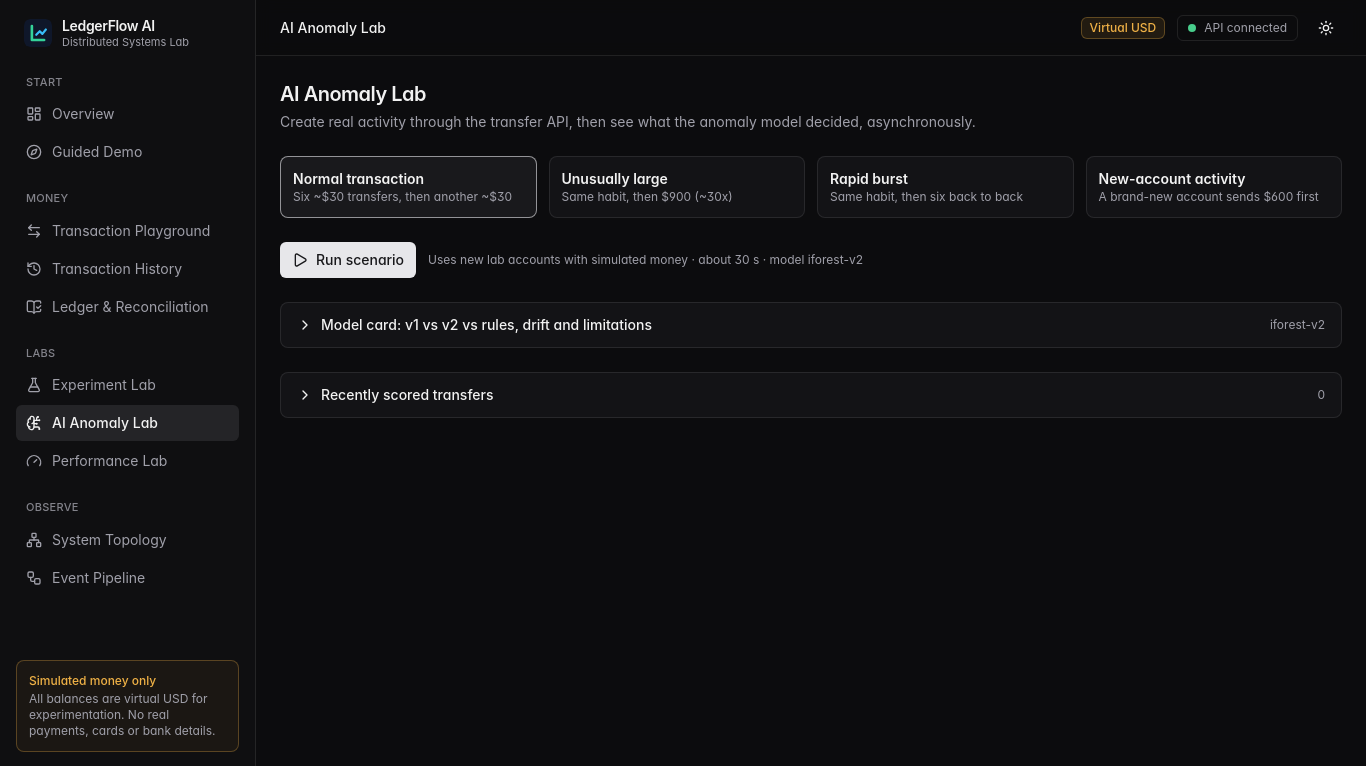
Scenario: AI Anomaly Lab › keeps the feature table and model card collapsed, with honest evaluation numbers
Click the button "Run scenario" at x=348, y=260, box [280,242,416,278]
(page scrolled)
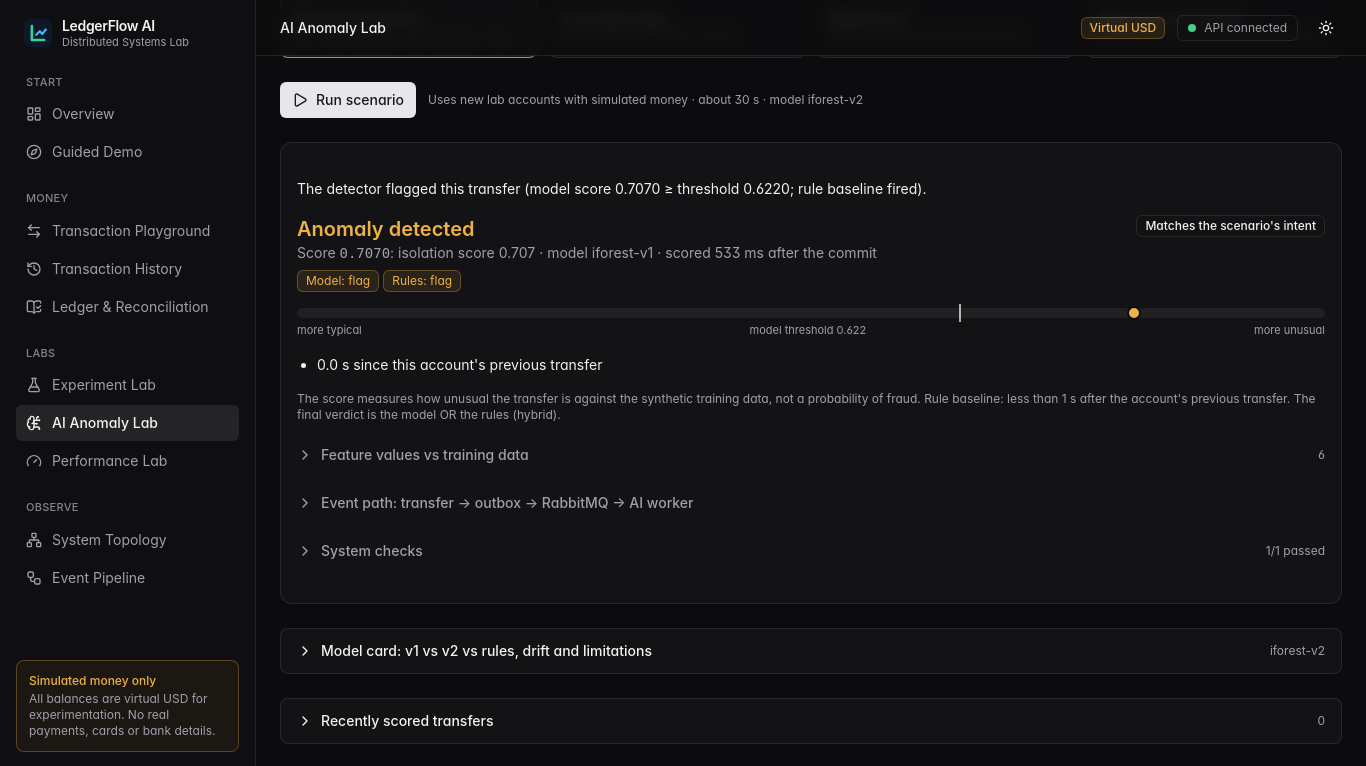
expect the element with test id "ai-prediction" is shown: met, box [297,215,1325,518]
Click the button "Model card" at x=486, y=650, box [281,628,1341,672]
(page scrolled)
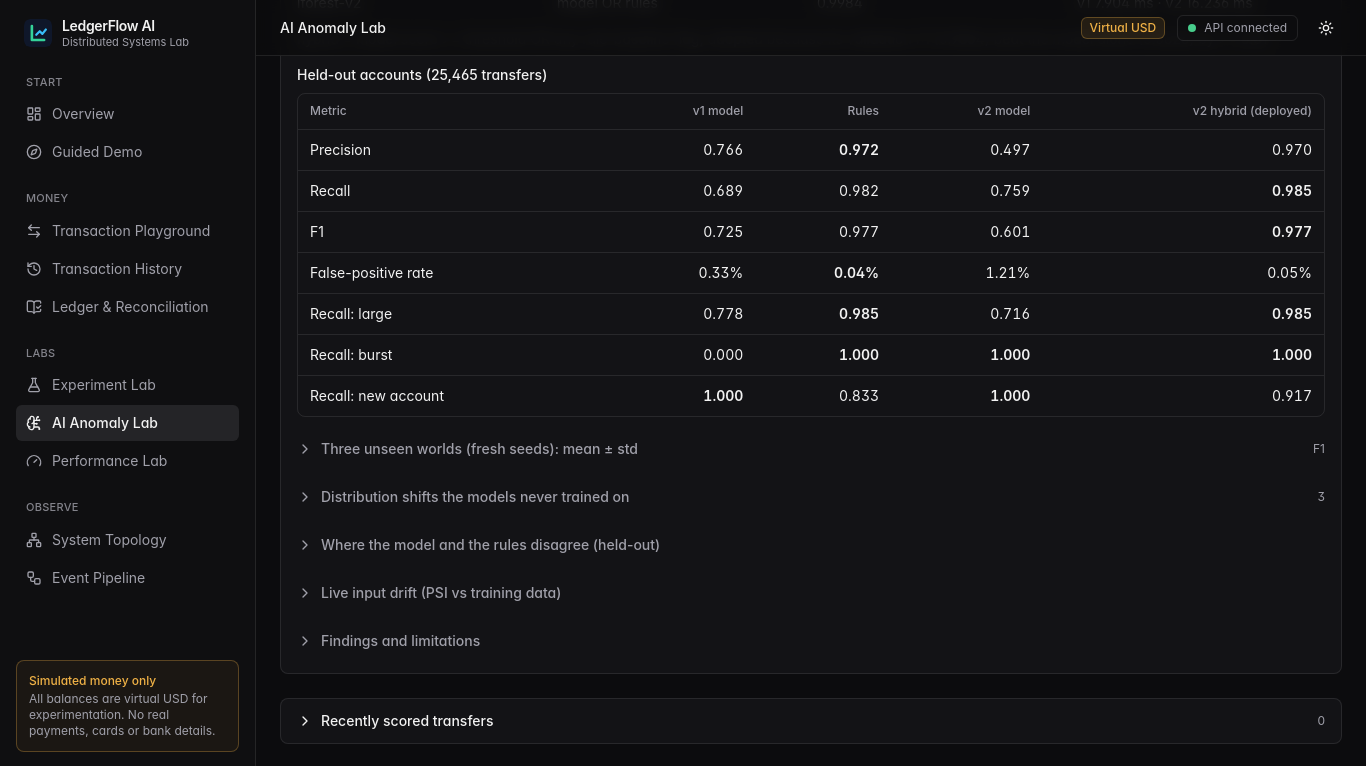
expect the cell "0.000" is shown: met, box [609,334,755,376]
expect the 2nd cell "0.977" is shown: met, box [1042,212,1324,252]
Click the button "Findings and limitations" at x=401, y=640, box [297,625,1325,657]
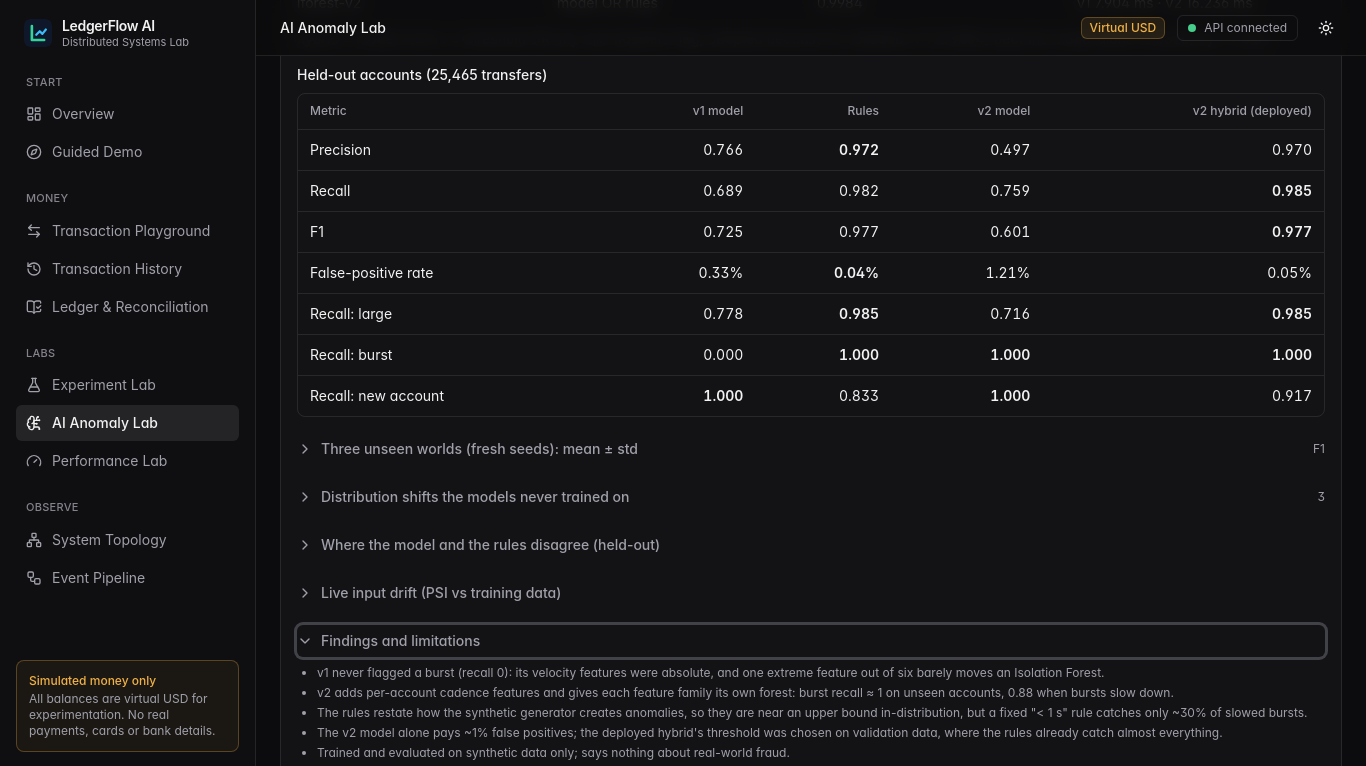
expect the list item "v1 never flagged a burst" is shown: met, box [317,665,1105,680]
